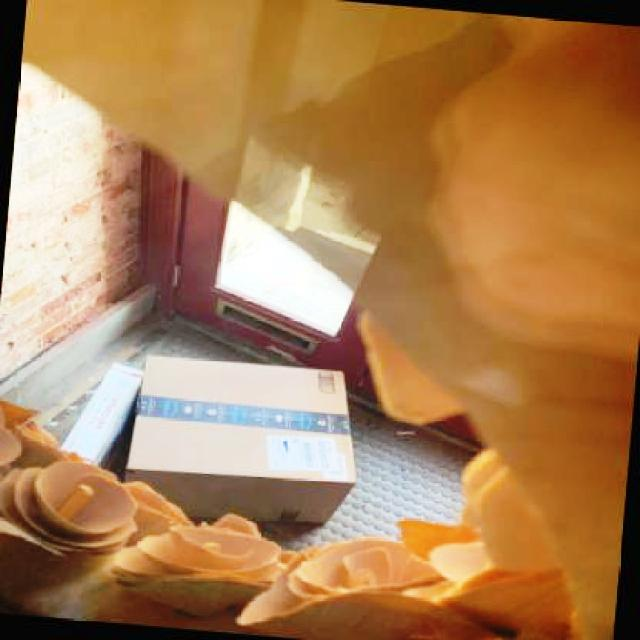Box: (124, 351, 365, 531), (56, 358, 142, 468)
